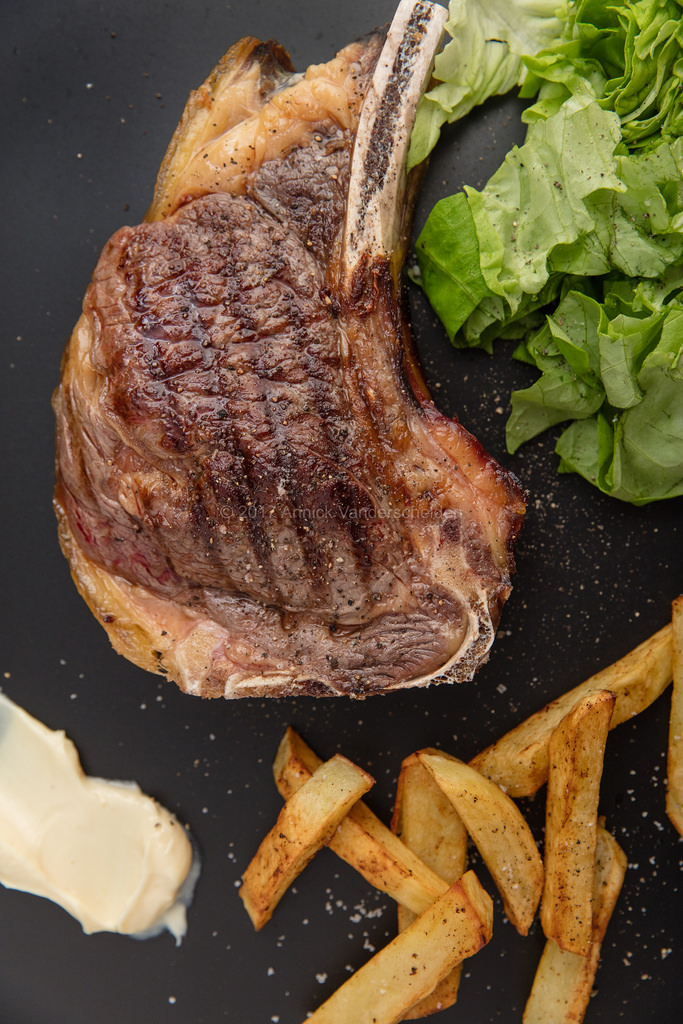chopped lettuce: (508, 28, 683, 485)
